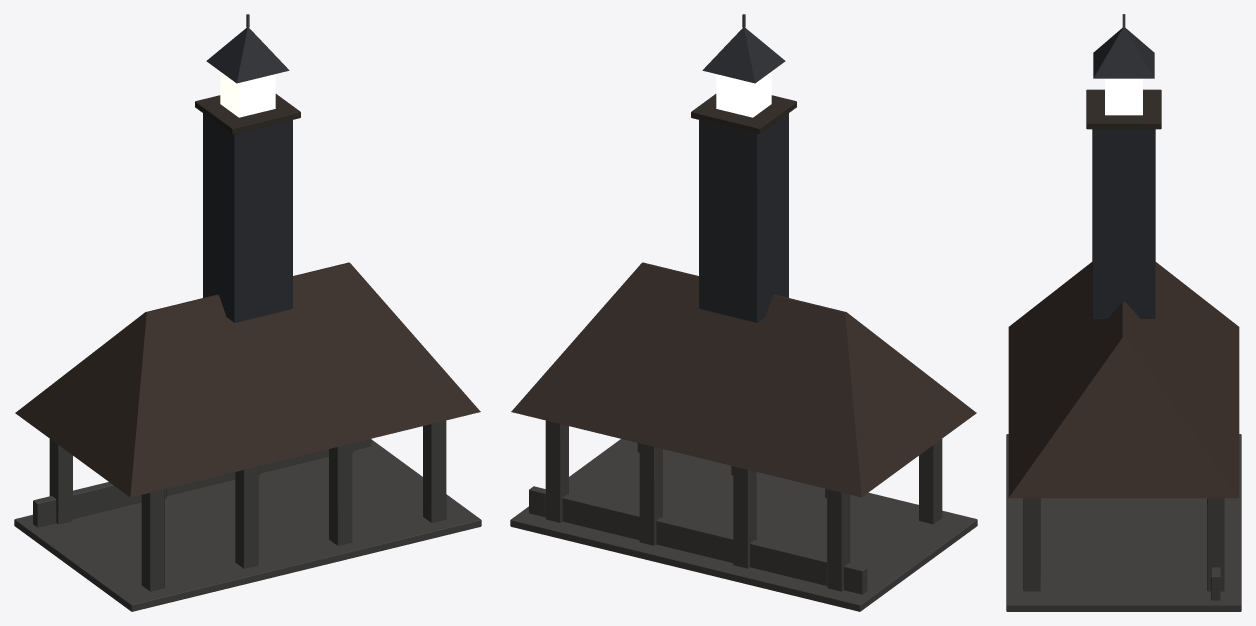
The model's file is landmark_halle.glb.
The picture shows the model from 3 angles, left to right: view 1: azimuth 30°, elevation 25°; view 2: azimuth 150°, elevation 25°; view 3: azimuth 270°, elevation 25°; orthographic projection.
Parts seen in each view (by area): view 1: HAL_Toiture, HAL_Socle, HAL_Beffroi, HAL_Bahut, HAL_Fleche, HAL_Pilier_30, HAL_Pilier_20, HAL_Pilier_10, HAL_Pilier_00, HAL_Beffroi_Corniche, HAL_Cage_Lit, HAL_Pilier_01; view 2: HAL_Toiture, HAL_Socle, HAL_Beffroi, HAL_Bahut, HAL_Fleche, HAL_Pilier_31, HAL_Pilier_21, HAL_Pilier_11, HAL_Pilier_01, HAL_Beffroi_Corniche, HAL_Cage_Lit, HAL_Pilier_00; view 3: HAL_Toiture, HAL_Socle, HAL_Beffroi, HAL_Fleche, HAL_Beffroi_Corniche, HAL_Pilier_30, HAL_Pilier_31, HAL_Cage_Lit, HAL_Bahut.
Part boxes in pixels (bbox=[...]): HAL_Toiture: bbox=[15, 262, 480, 497]; HAL_Socle: bbox=[14, 439, 481, 611]; HAL_Beffroi: bbox=[203, 113, 292, 322]; HAL_Bahut: bbox=[33, 439, 371, 527]; HAL_Fleche: bbox=[206, 28, 289, 83]; HAL_Pilier_30: bbox=[423, 420, 446, 522]; HAL_Pilier_20: bbox=[329, 443, 352, 545]; HAL_Pilier_10: bbox=[235, 466, 258, 568]; HAL_Pilier_00: bbox=[141, 489, 164, 591]; HAL_Beffroi_Corniche: bbox=[195, 94, 300, 134]; HAL_Cage_Lit: bbox=[220, 72, 275, 117]; HAL_Pilier_01: bbox=[49, 439, 72, 524]; HAL_Toiture: bbox=[511, 262, 976, 497]; HAL_Socle: bbox=[510, 439, 977, 611]; HAL_Beffroi: bbox=[699, 113, 788, 322]; HAL_Bahut: bbox=[529, 486, 867, 594]; HAL_Fleche: bbox=[702, 28, 785, 83]; HAL_Pilier_31: bbox=[545, 420, 568, 522]; HAL_Pilier_21: bbox=[639, 443, 662, 545]; HAL_Pilier_11: bbox=[733, 466, 756, 568]; HAL_Pilier_01: bbox=[827, 489, 850, 591]; HAL_Beffroi_Corniche: bbox=[691, 94, 796, 134]; HAL_Cage_Lit: bbox=[716, 72, 771, 117]; HAL_Pilier_00: bbox=[919, 439, 942, 524]; HAL_Toiture: bbox=[1008, 262, 1239, 498]; HAL_Socle: bbox=[1006, 434, 1241, 611]; HAL_Beffroi: bbox=[1092, 129, 1155, 318]; HAL_Fleche: bbox=[1093, 27, 1154, 78]; HAL_Beffroi_Corniche: bbox=[1086, 89, 1161, 129]; HAL_Pilier_30: bbox=[1023, 498, 1040, 591]; HAL_Pilier_31: bbox=[1207, 498, 1224, 591]; HAL_Cage_Lit: bbox=[1105, 78, 1142, 115]; HAL_Bahut: bbox=[1211, 567, 1220, 600].
Bounding box in the file's own units: 17.2 × 24 × 10.
